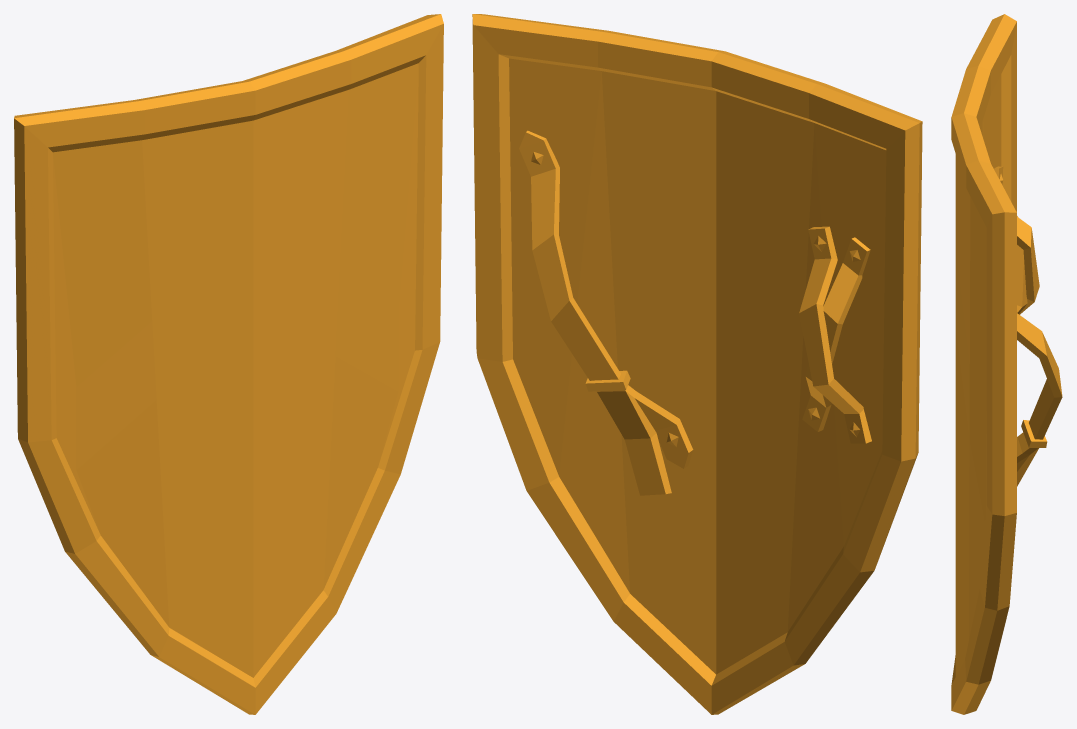
File: SM_Shield_Heater_B.fbx
The picture shows the model from 3 angles, left to right: view 1: azimuth 30°, elevation 25°; view 2: azimuth 150°, elevation 25°; view 3: azimuth 270°, elevation 25°; orthographic projection. The views are drawn at different scales.
Parts seen in each view (by area): view 1: shield-heater-b; view 2: shield-heater-b; view 3: shield-heater-b.
Part boxes in pixels (x1,y1,x2,y2): shield-heater-b: (14,14,443,714); shield-heater-b: (472,14,922,714); shield-heater-b: (951,14,1062,714).
Size of the model in its own units: 0.5606 by 0.7934 by 0.1326.
